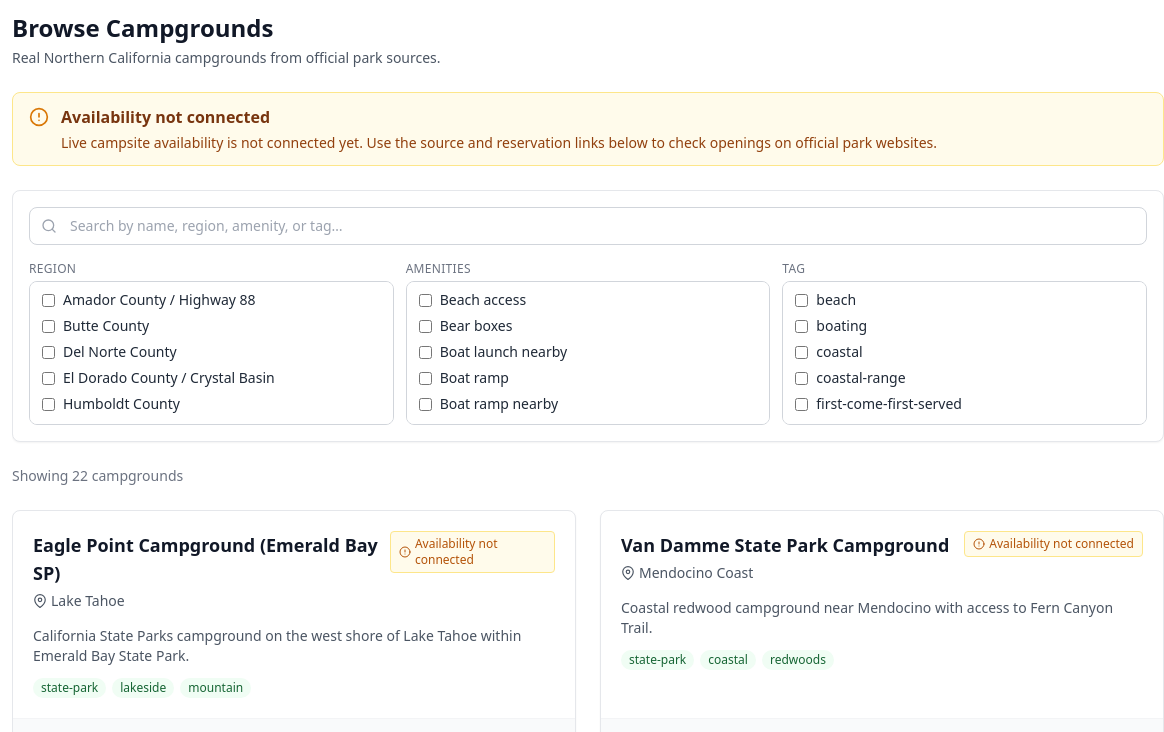
CampgroundsPage › removes an individual tag chip
Click the checkbox labelled "beach".
click(802, 300)  # box 795,294 -> 808,306
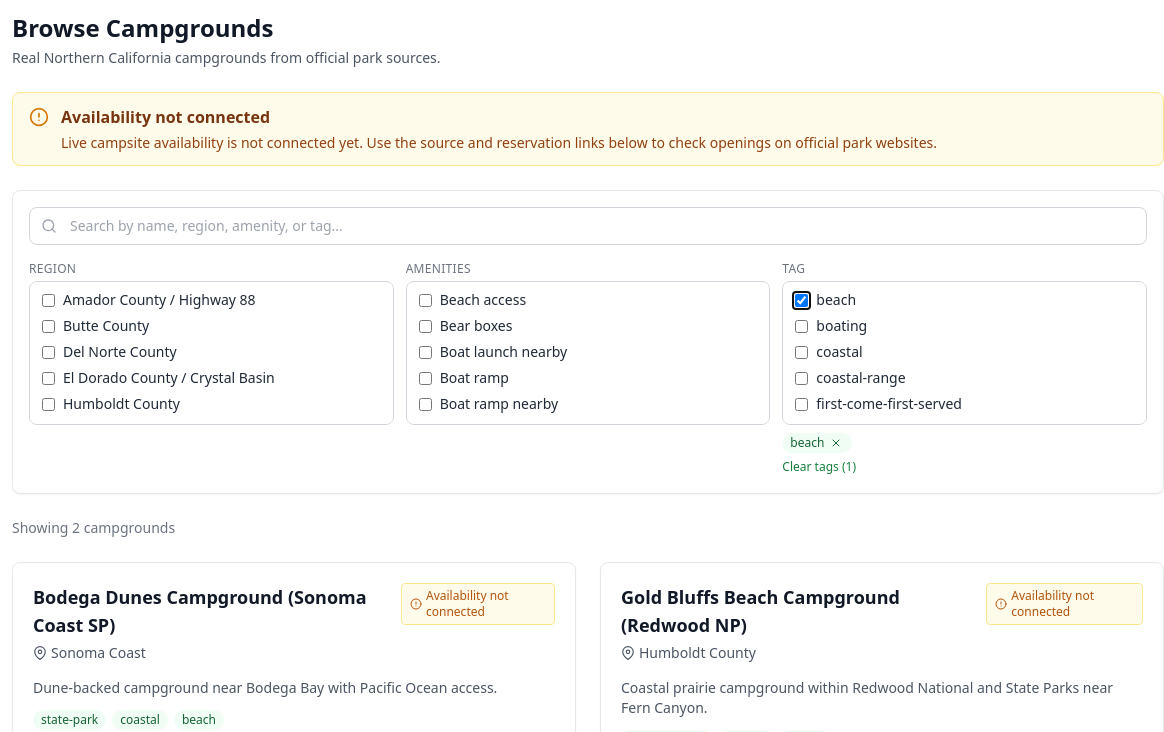
Click the checkbox labelled "boating".
click(802, 326)  # box 795,320 -> 808,332
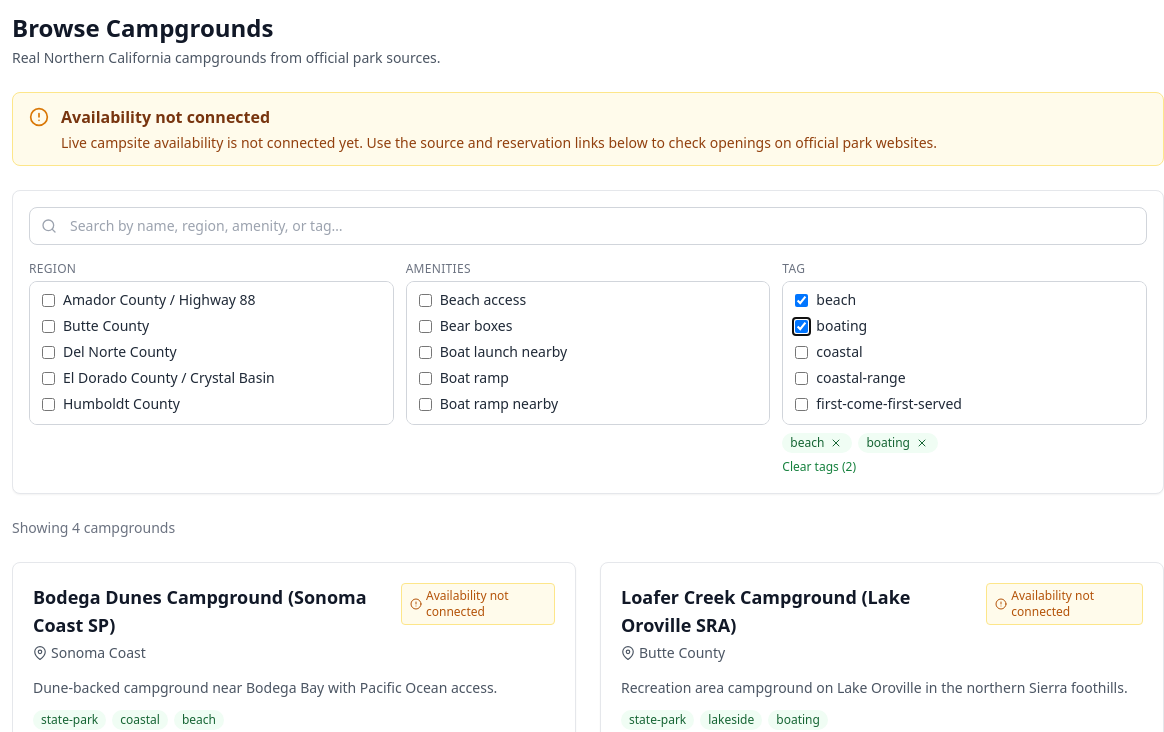
Click the button named "Remove beach".
click(836, 443)  # box 828,435 -> 844,451
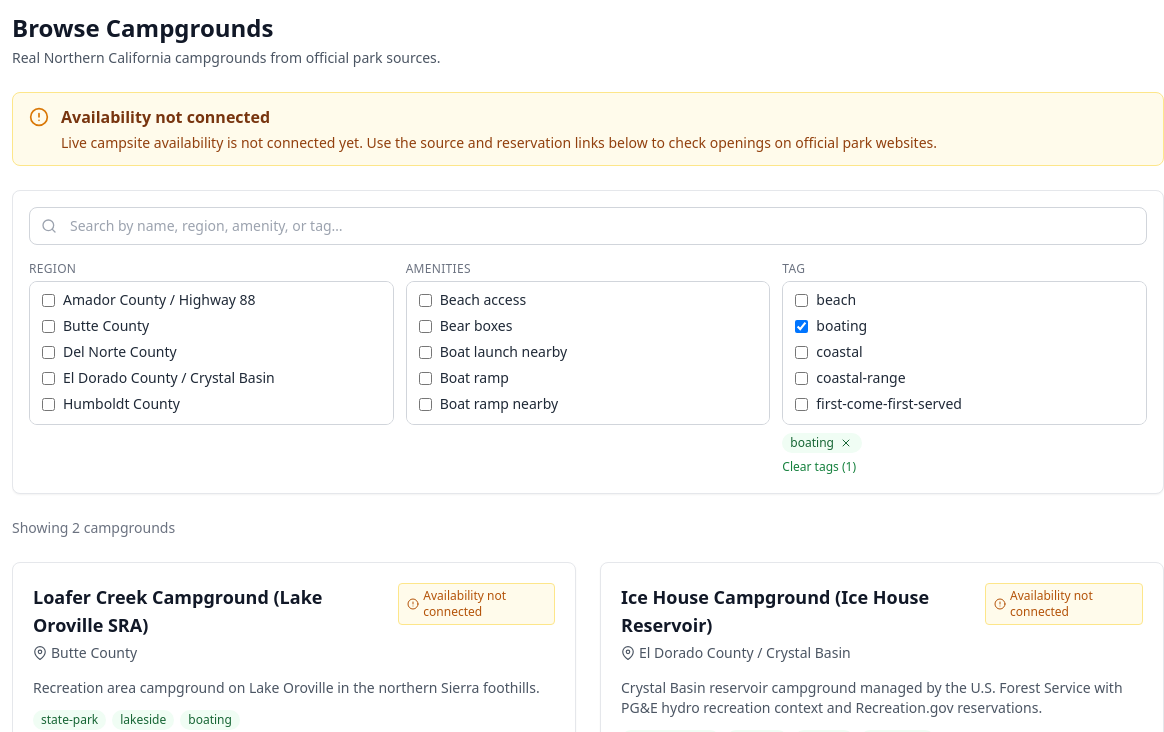
Expected: the button "Clear tags (1)" is shown, 782,459 -> 856,475
